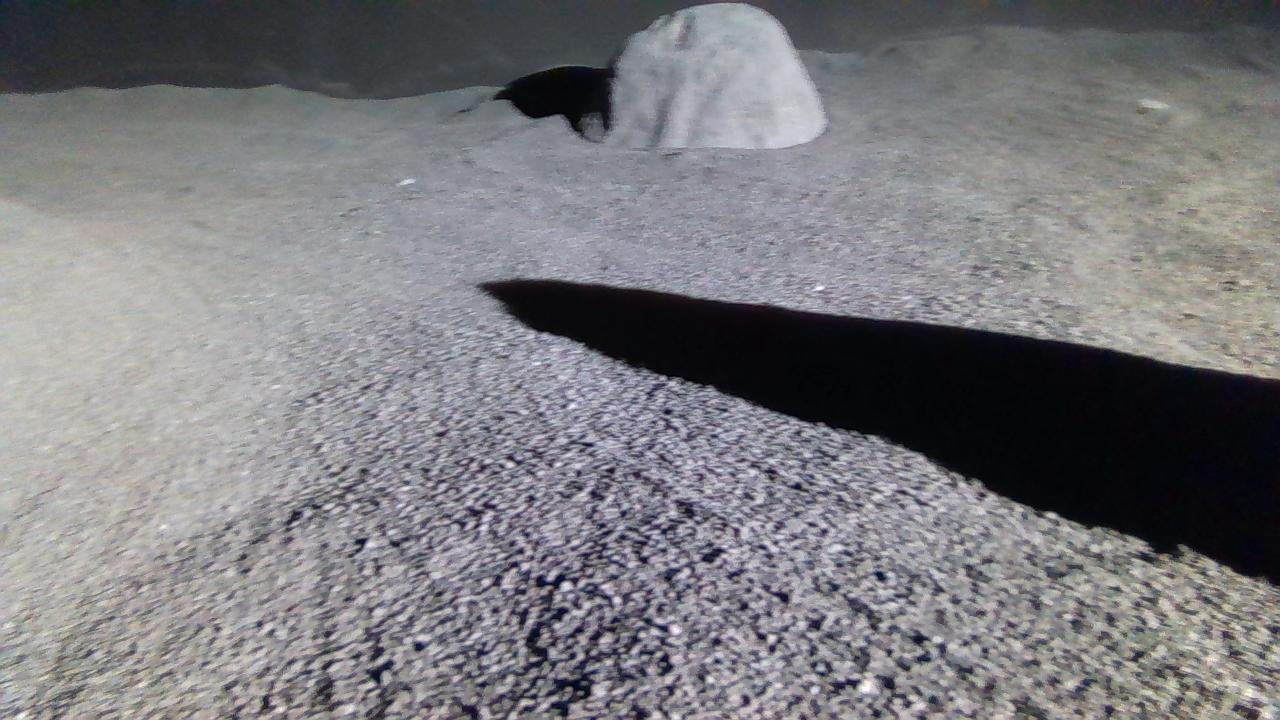rock: (605, 2, 829, 147)
